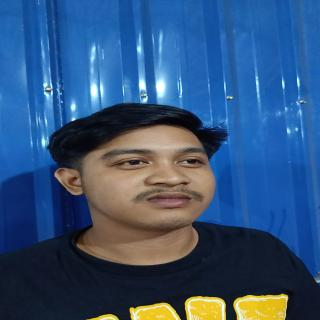Netral: (77, 120, 223, 236)
